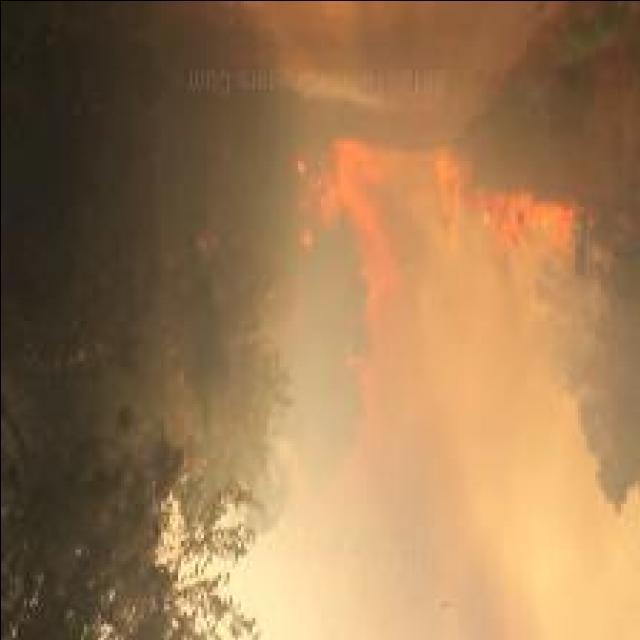Fire: (296, 136, 573, 438)
